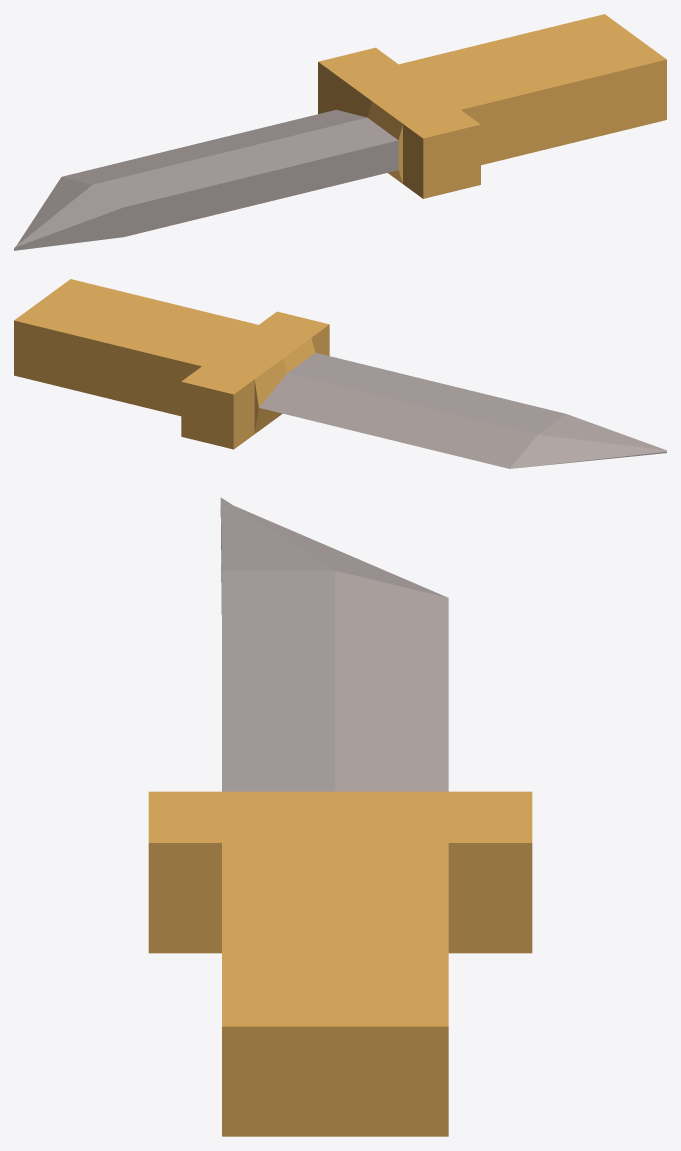
The model's file is steel_knife.glb.
3 views of the same model, one above another, from view 1: azimuth 30°, elevation 25°; view 2: azimuth 150°, elevation 25°; view 3: azimuth 270°, elevation 25° (orthographic). The views are drawn at different scales.
Parts seen in each view (by area): view 1: Cube; view 2: Cube; view 3: Cube.
Part boxes in pixels (x1,y1,x2,y2): Cube: (14, 14, 666, 250); Cube: (14, 279, 666, 468); Cube: (148, 497, 532, 1136).
Size of the model in its own units: 9.51 by 0.8393 by 2.65.
